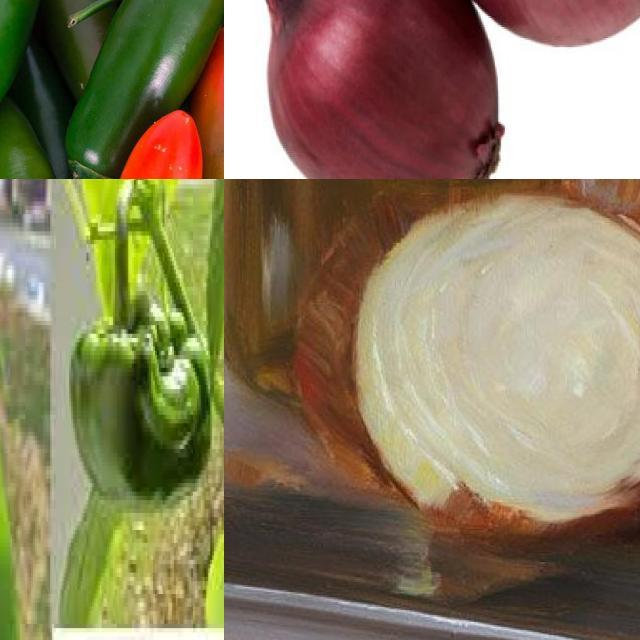bell_pepper: (72, 275, 219, 551)
onion: (338, 185, 640, 536), (265, 1, 507, 180)
